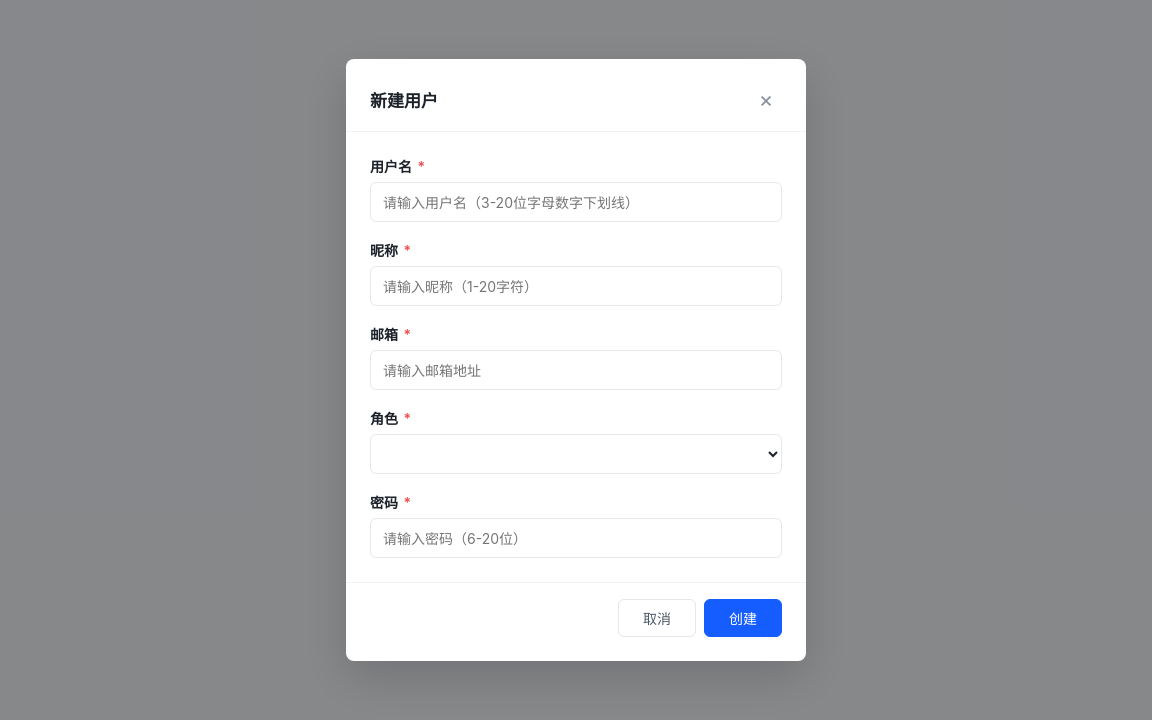
Test: UserFormDialog 组件 › 表单验证 - 昵称 › 昵称为空时显示错误
The width and height of the screenshot is (1152, 720).
In the field with placeholder "请输入用户名（3-20位字母数字下划线）": (576, 202) 370,182 -> 782,222, type "validuser"
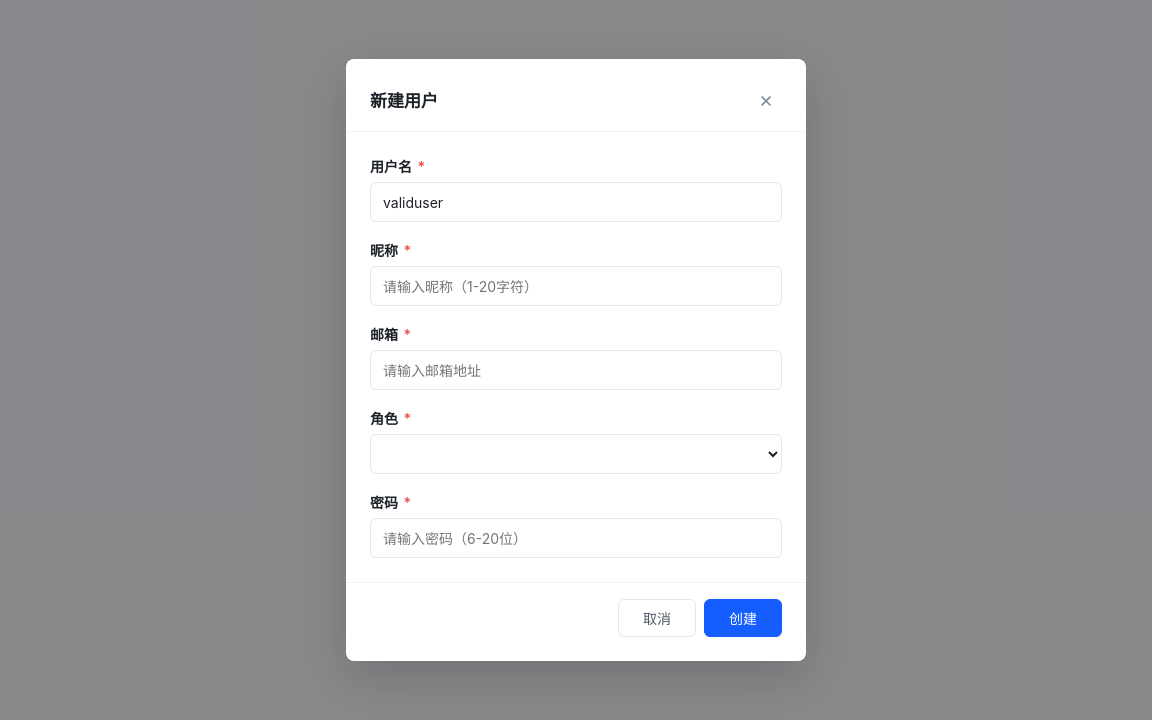
Click the button with class "btn-submit": (743, 618) 704,599 -> 782,637
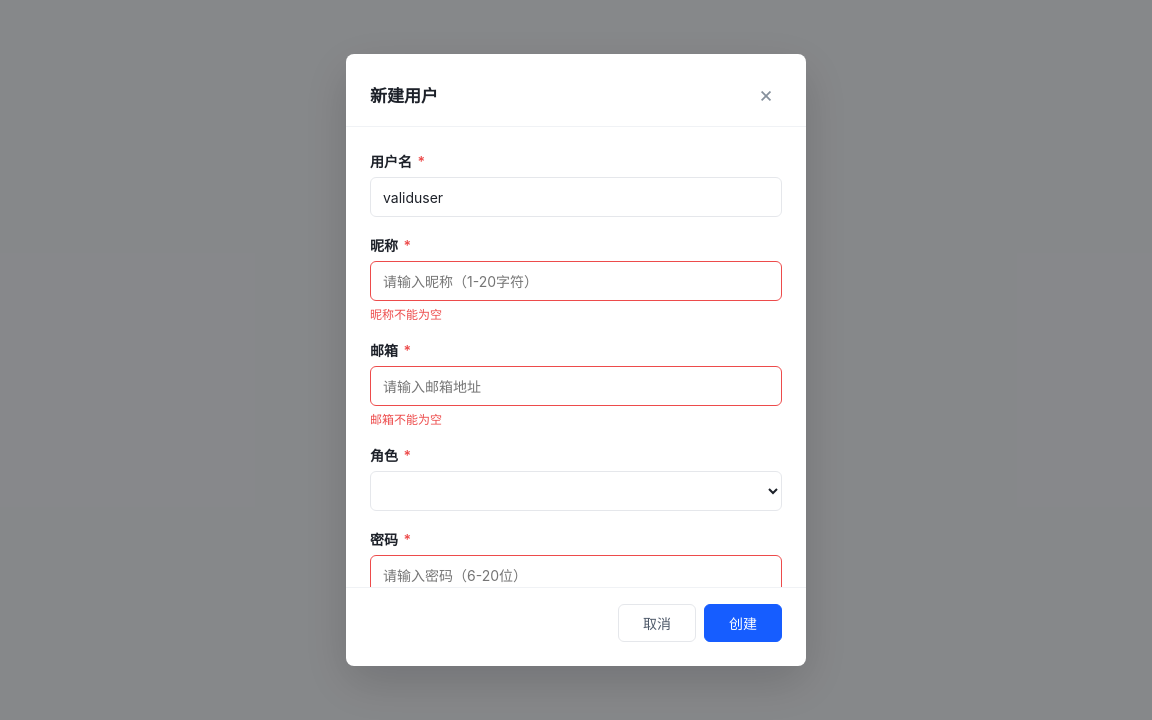
Now the text with class "error-text" reads "昵称不能为空", box 370,307 -> 442,322
